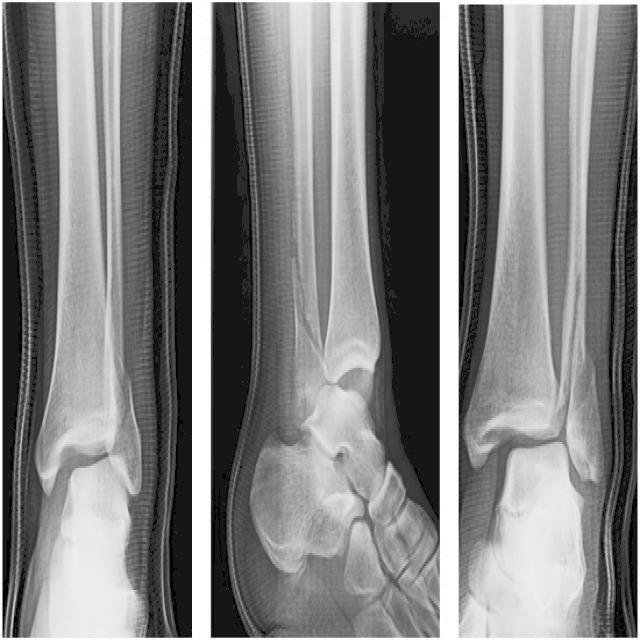Fracture Dislocation: (535, 311, 612, 489), (89, 356, 152, 488), (274, 246, 328, 359)
